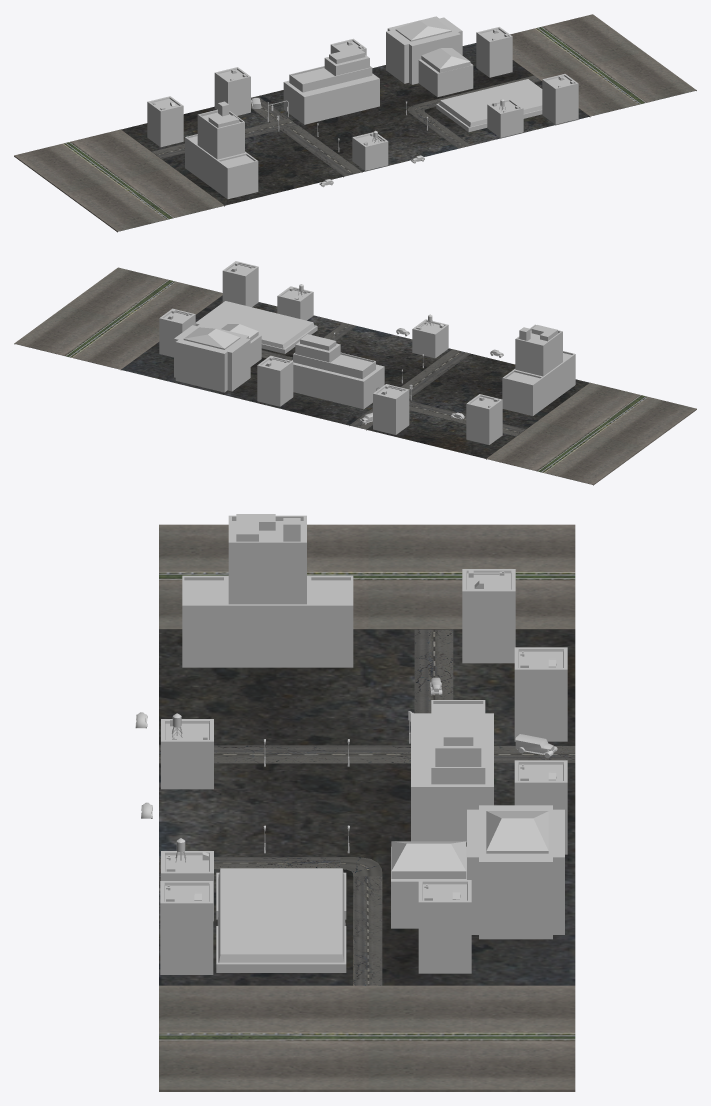
Rendered from Block_10.fbx.
3 views of the same model, one above another, from view 1: azimuth 30°, elevation 25°; view 2: azimuth 150°, elevation 25°; view 3: azimuth 270°, elevation 25° (orthographic). The views are drawn at different scales.
Parts seen in each view (by area): view 1: pasted__polySurface1336; view 2: pasted__polySurface1336; view 3: pasted__polySurface1336.
Boxes of the visible parts, x1=… form: pasted__polySurface1336: x1=14, y1=14, x2=696, y2=232; pasted__polySurface1336: x1=14, y1=261, x2=696, y2=485; pasted__polySurface1336: x1=135, y1=514, x2=575, y2=1091.
Bounding box in the file's own units: 459 × 151 × 65.54.
